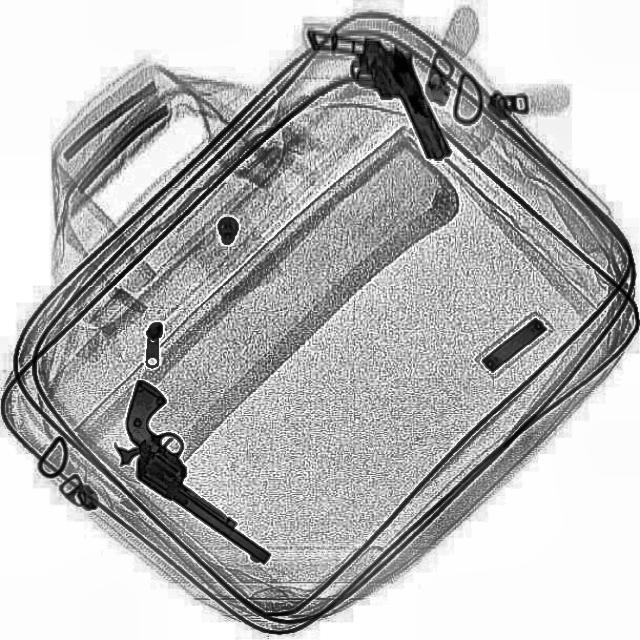Gun: (80, 374, 316, 570), (302, 1, 452, 183)
